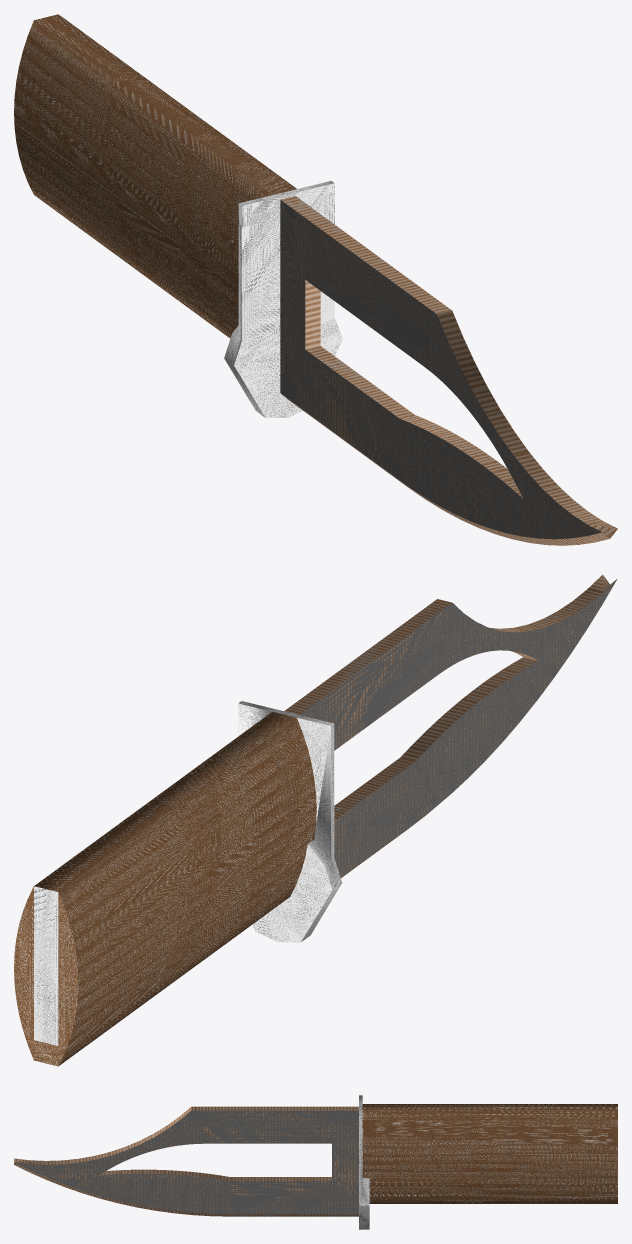
The model's file is model_scale.obj.
3 views of the same model, one above another, from view 1: azimuth 30°, elevation 25°; view 2: azimuth 150°, elevation 25°; view 3: azimuth 270°, elevation 25° (orthographic). The views are drawn at different scales.
Parts seen in each view (by area): view 1: mesh2_mesh2-geometry, mesh1_mesh1-geometry; view 2: mesh2_mesh2-geometry, mesh1_mesh1-geometry; view 3: mesh2_mesh2-geometry, mesh1_mesh1-geometry.
Part boxes in pixels (box(x1,y1,x2,y2)): mesh2_mesh2-geometry: box(14, 14, 342, 417); mesh1_mesh1-geometry: box(280, 196, 617, 545); mesh2_mesh2-geometry: box(14, 701, 342, 1066); mesh1_mesh1-geometry: box(284, 574, 617, 877); mesh2_mesh2-geometry: box(359, 1095, 617, 1229); mesh1_mesh1-geometry: box(14, 1106, 358, 1216).
Bounding box in the file's own units: 0.025 × 0.049 × 0.2245.
